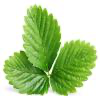Strawberry leaf: (50, 38, 100, 97), (22, 3, 62, 74), (3, 44, 49, 96)
